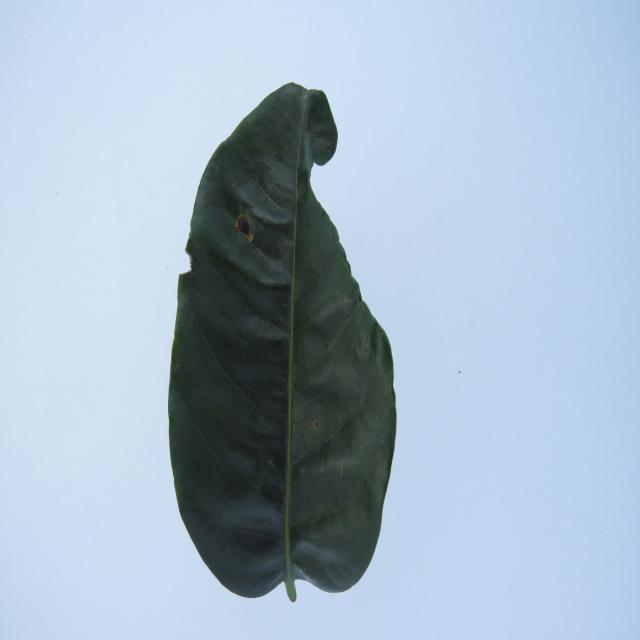DeficienciaNutricional-Boro: (169, 83, 396, 602)
